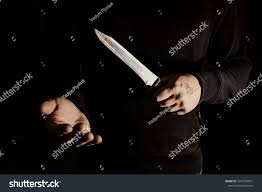knife: (94, 28, 168, 93)
